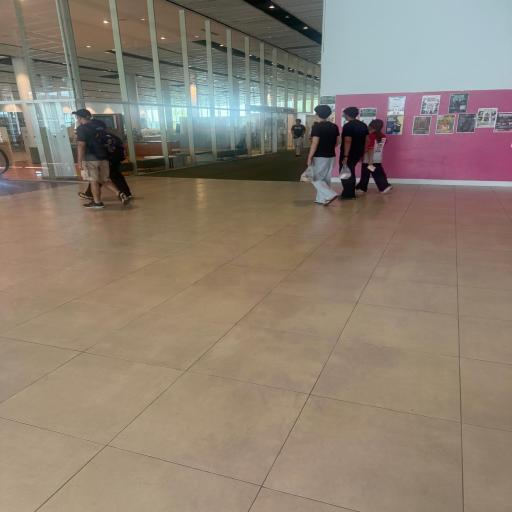person_left: (71, 108, 130, 209), (78, 119, 134, 200), (305, 104, 341, 206), (338, 106, 370, 200), (355, 119, 393, 195)
